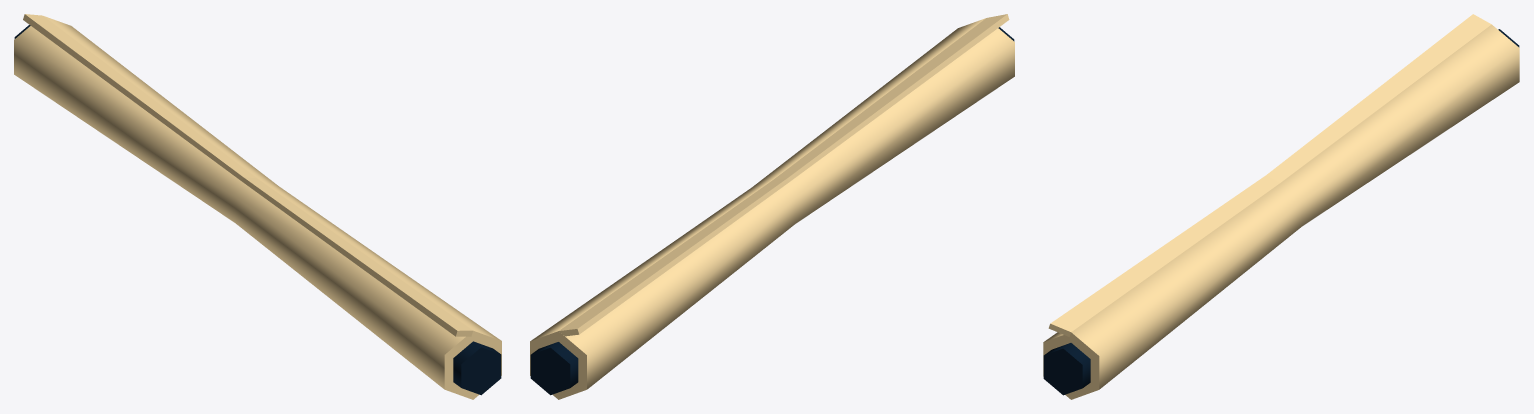
Rendered from SM_Maps.fbx.
3 renders of one model, left to right at view 1: azimuth 30°, elevation 25°; view 2: azimuth 150°, elevation 25°; view 3: azimuth 330°, elevation 25°, orthographic. The views are drawn at different scales.
Parts seen in each view (by area): view 1: Cylinder.016; view 2: Cylinder.016; view 3: Cylinder.016.
Part boxes in pixels (bbox=[...]): Cylinder.016: bbox=[14, 14, 501, 399]; Cylinder.016: bbox=[530, 14, 1014, 399]; Cylinder.016: bbox=[1043, 14, 1519, 399].
Bounding box in the file's own units: 8.66 × 10.93 × 117.
